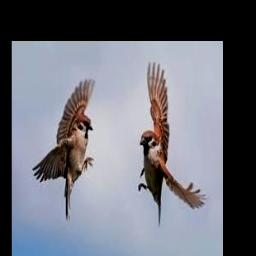Sparrow: (137, 62, 207, 226), (31, 78, 95, 222)
